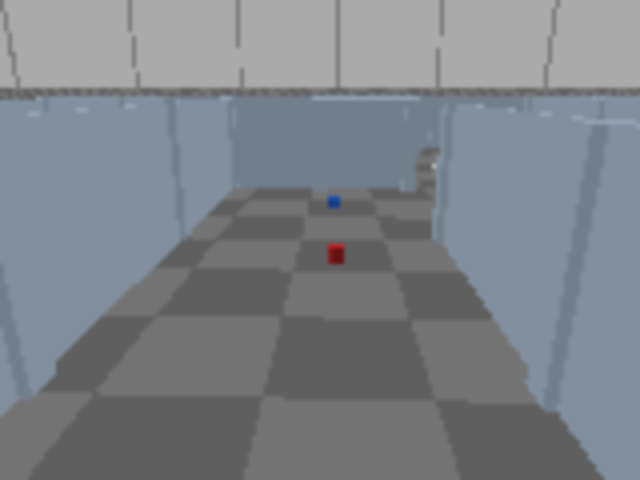puck: (330, 243, 345, 264)
